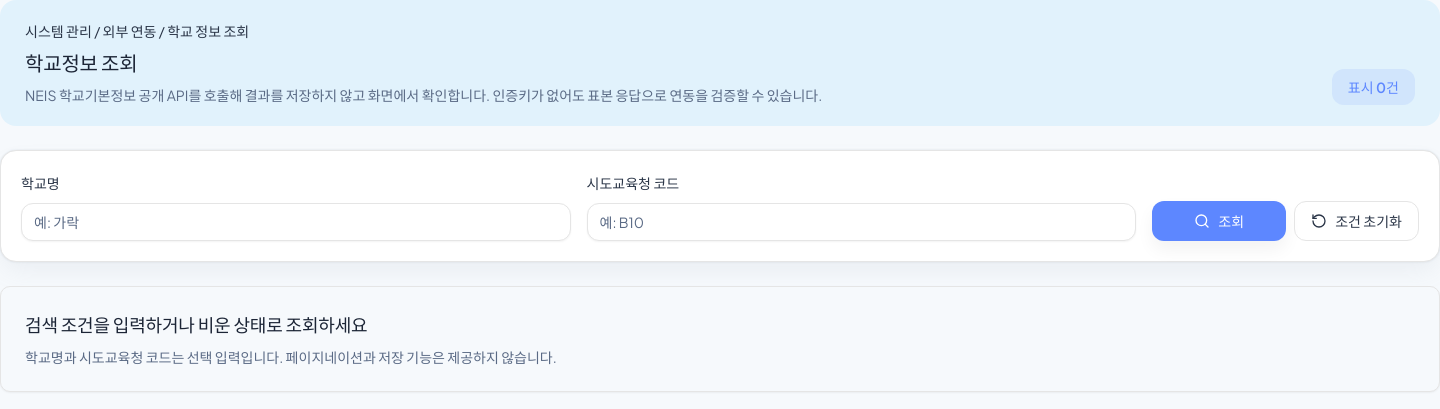
SCR-SCHOOL-INFO-LOOKUP › shows empty guidance without error banner for INFO-200 empty result
Click the button with test id "school-info-search-button" at (1219, 221), box [1152,201,1286,241]
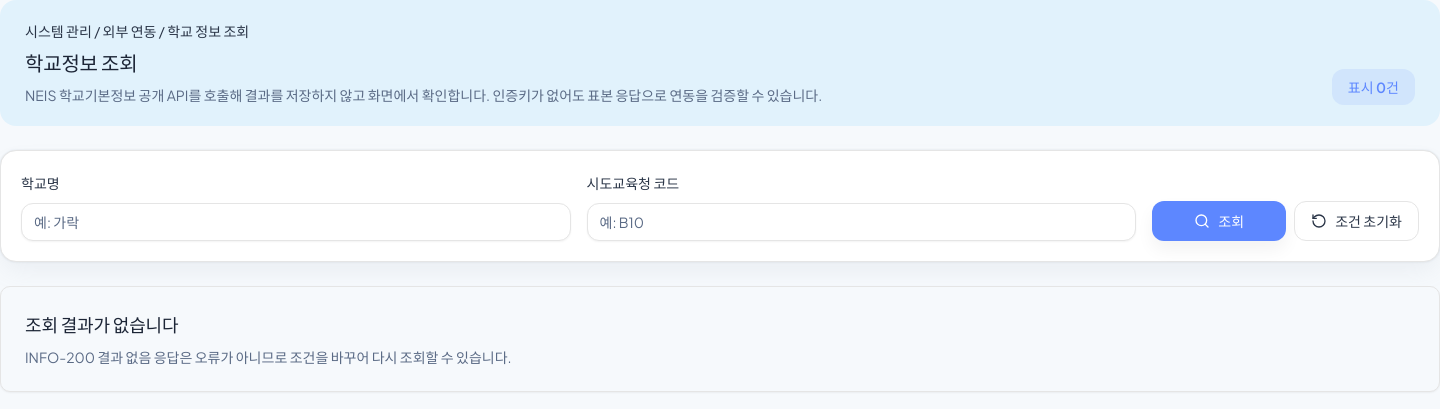
Now the heading "조회 결과가 없습니다" is shown, box [25,313,178,336]
